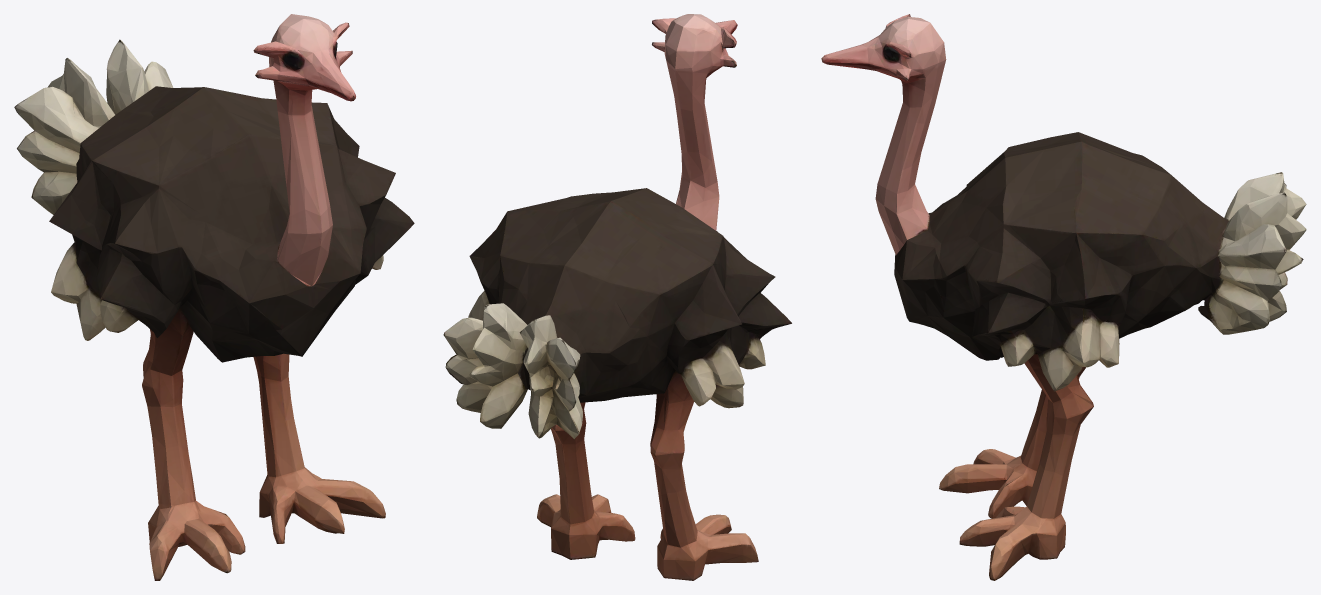
The model's file is ostrich.glb.
3 views of the same model, side by side, from view 1: azimuth 30°, elevation 25°; view 2: azimuth 150°, elevation 25°; view 3: azimuth 270°, elevation 25° (orthographic). The views are drawn at different scales.
Visible parts, largest first — view 1: world; view 2: world; view 3: world.
Part boxes in pixels (x1,y1,x2,y2): world: [14, 14, 414, 580]; world: [443, 14, 791, 580]; world: [821, 14, 1306, 580].
Size of the model in its own units: 0.5805 by 0.995 by 0.865.
1 material, 1 textured.
